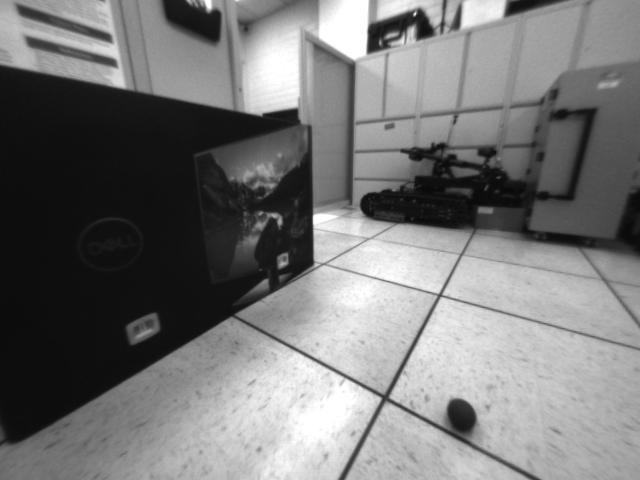dogtoy: (439, 393, 481, 442)
